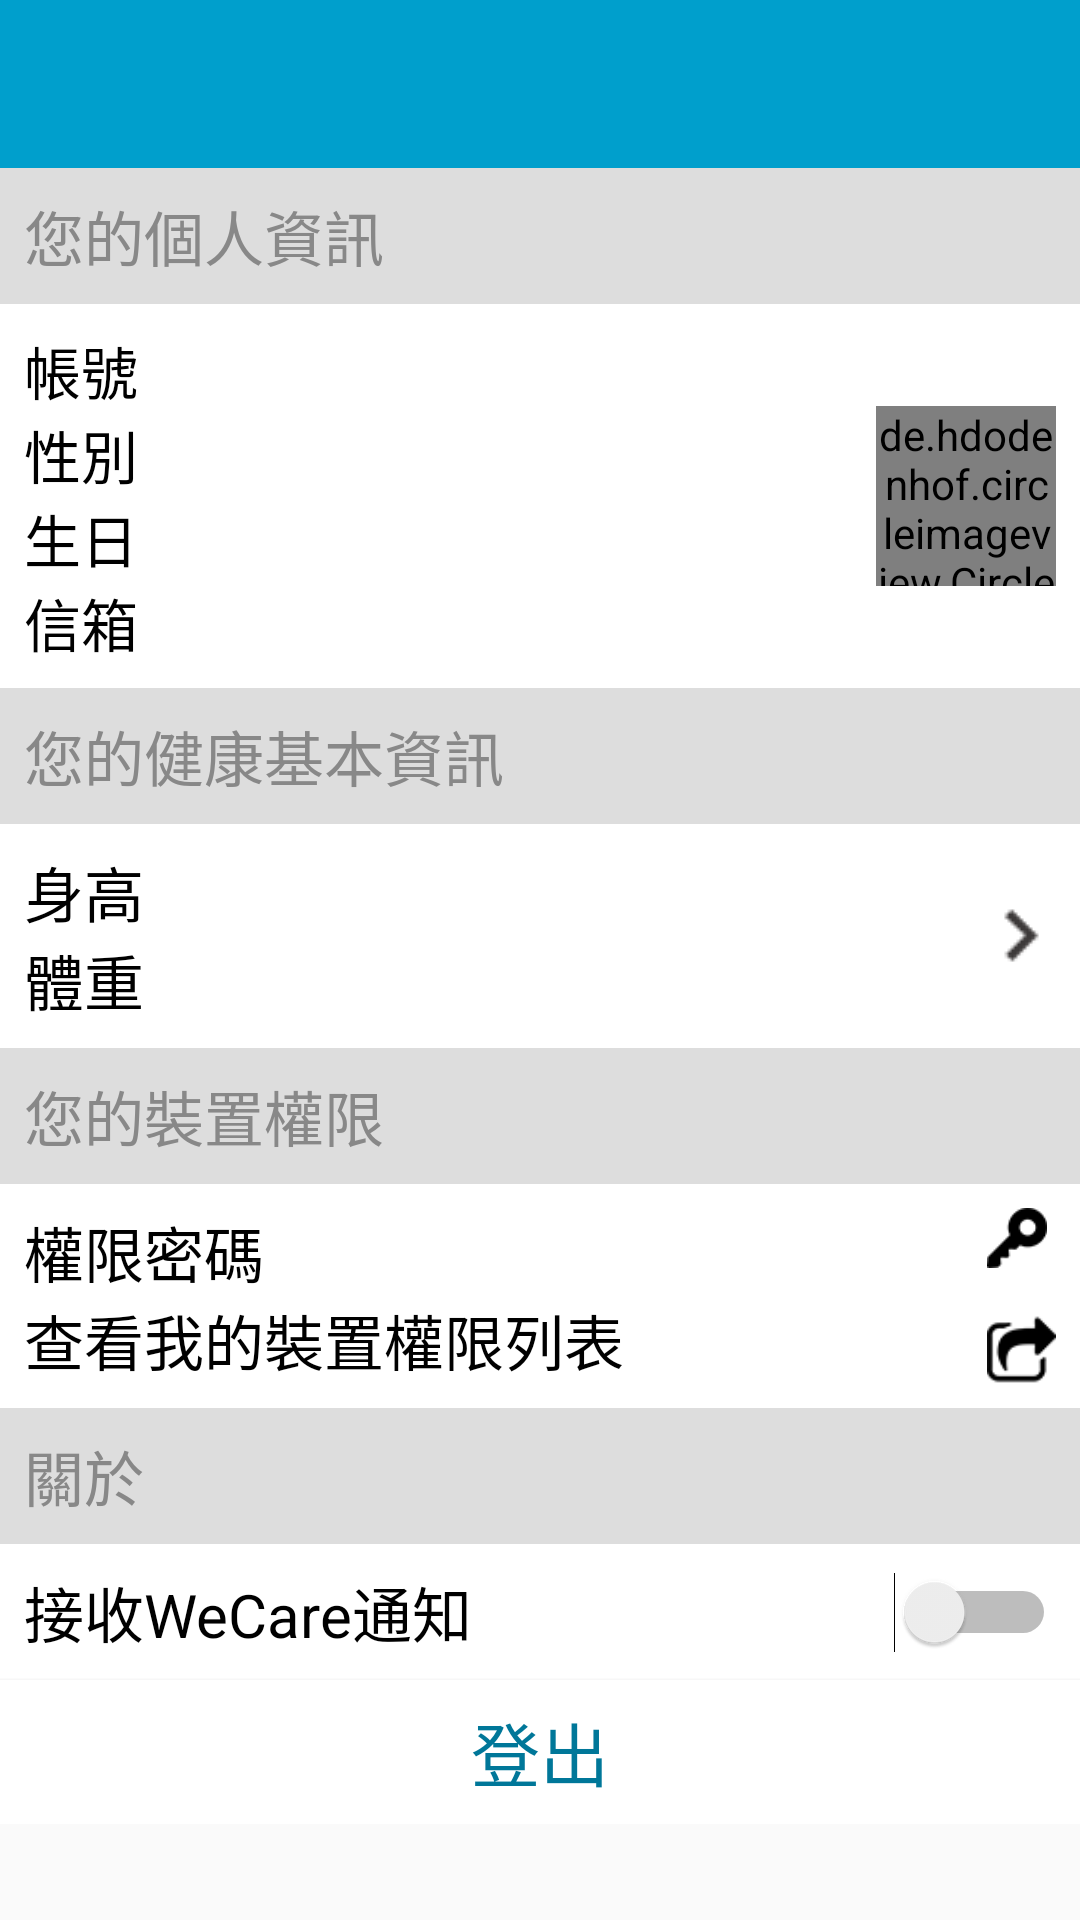

Icons on this 1080 × 1920 Android screen, each with the point to tap as [x,y]:
gogogo: [1021,935]
share: [1021,1349]
